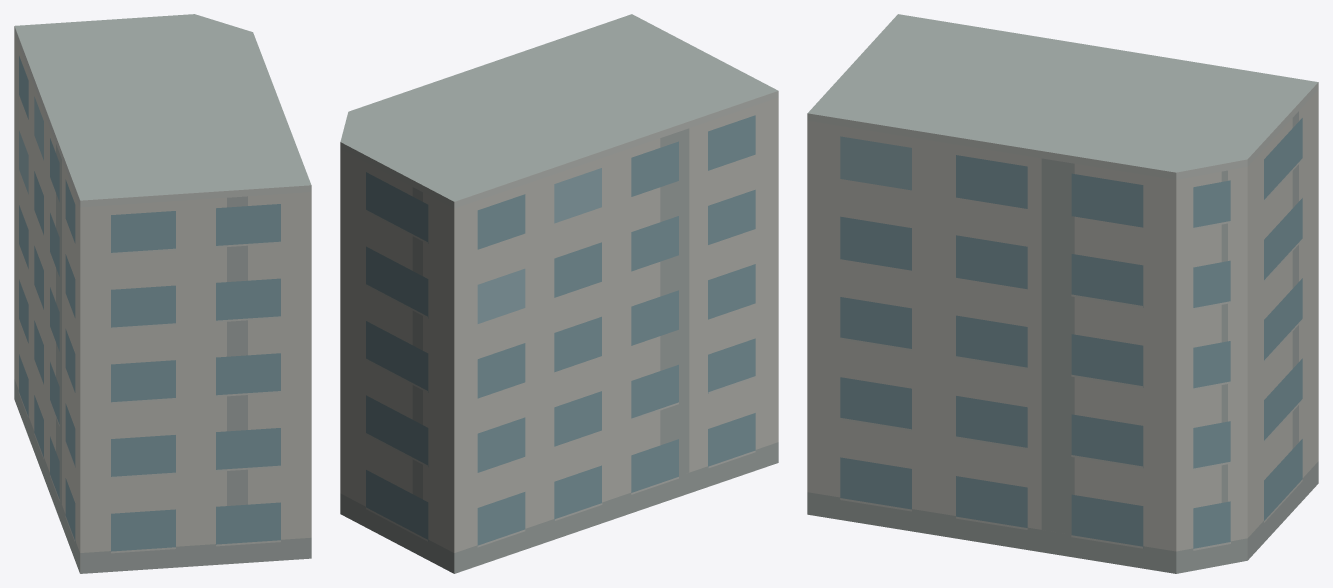
File: survey-upis-33025122.glb
The picture shows the model from 3 angles, left to right: view 1: azimuth 30°, elevation 25°; view 2: azimuth 150°, elevation 25°; view 3: azimuth 270°, elevation 25°; orthographic projection. The views are drawn at different scales.
Parts seen in each view (by area): view 1: survey-upis-33025122.tmp; view 2: survey-upis-33025122.tmp; view 3: survey-upis-33025122.tmp.
Part boxes in pixels (left/top/right/bottom): survey-upis-33025122.tmp: left=14, top=14, right=311, bottom=573; survey-upis-33025122.tmp: left=340, top=14, right=778, bottom=573; survey-upis-33025122.tmp: left=807, top=14, right=1318, bottom=573.
Size of the model in its own units: 11.16 by 13.15 by 15.19.
